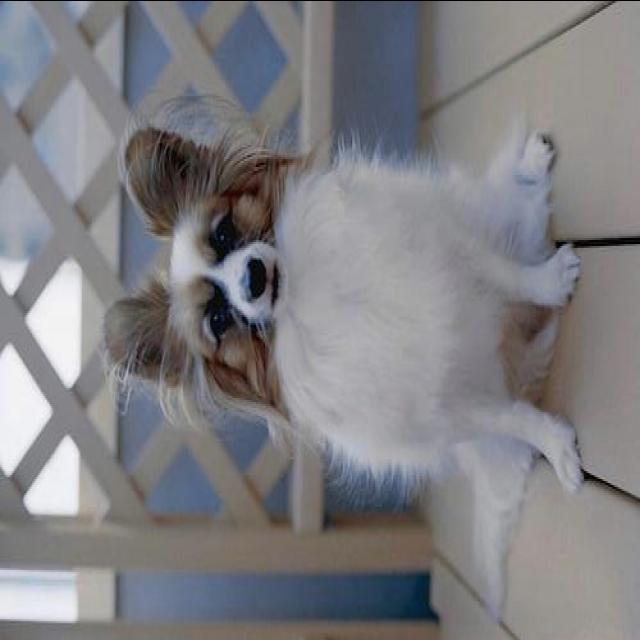papillon: (100, 119, 584, 608)
